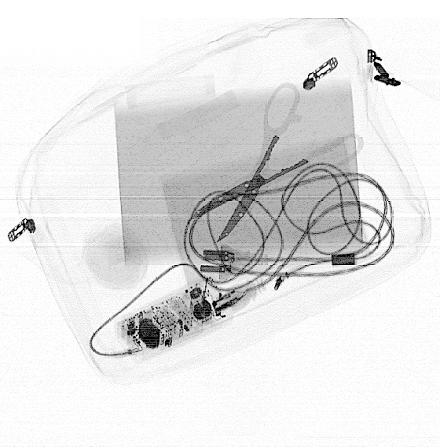Scissors: (188, 81, 365, 243)
